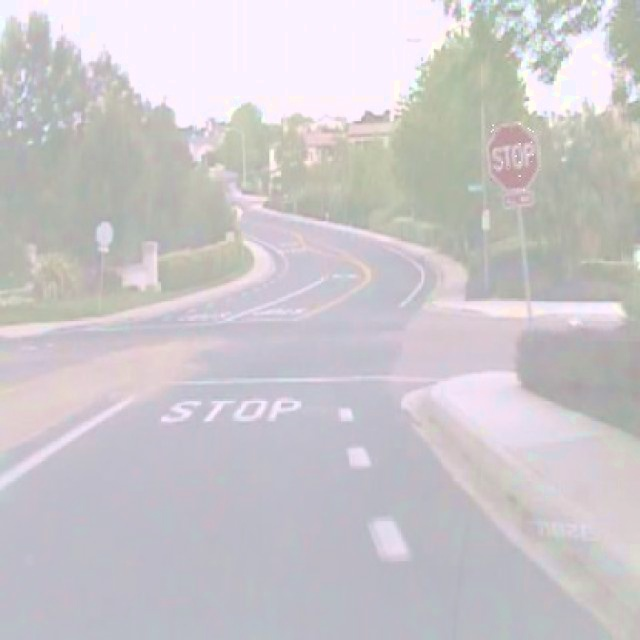stop: (486, 120, 540, 193)
